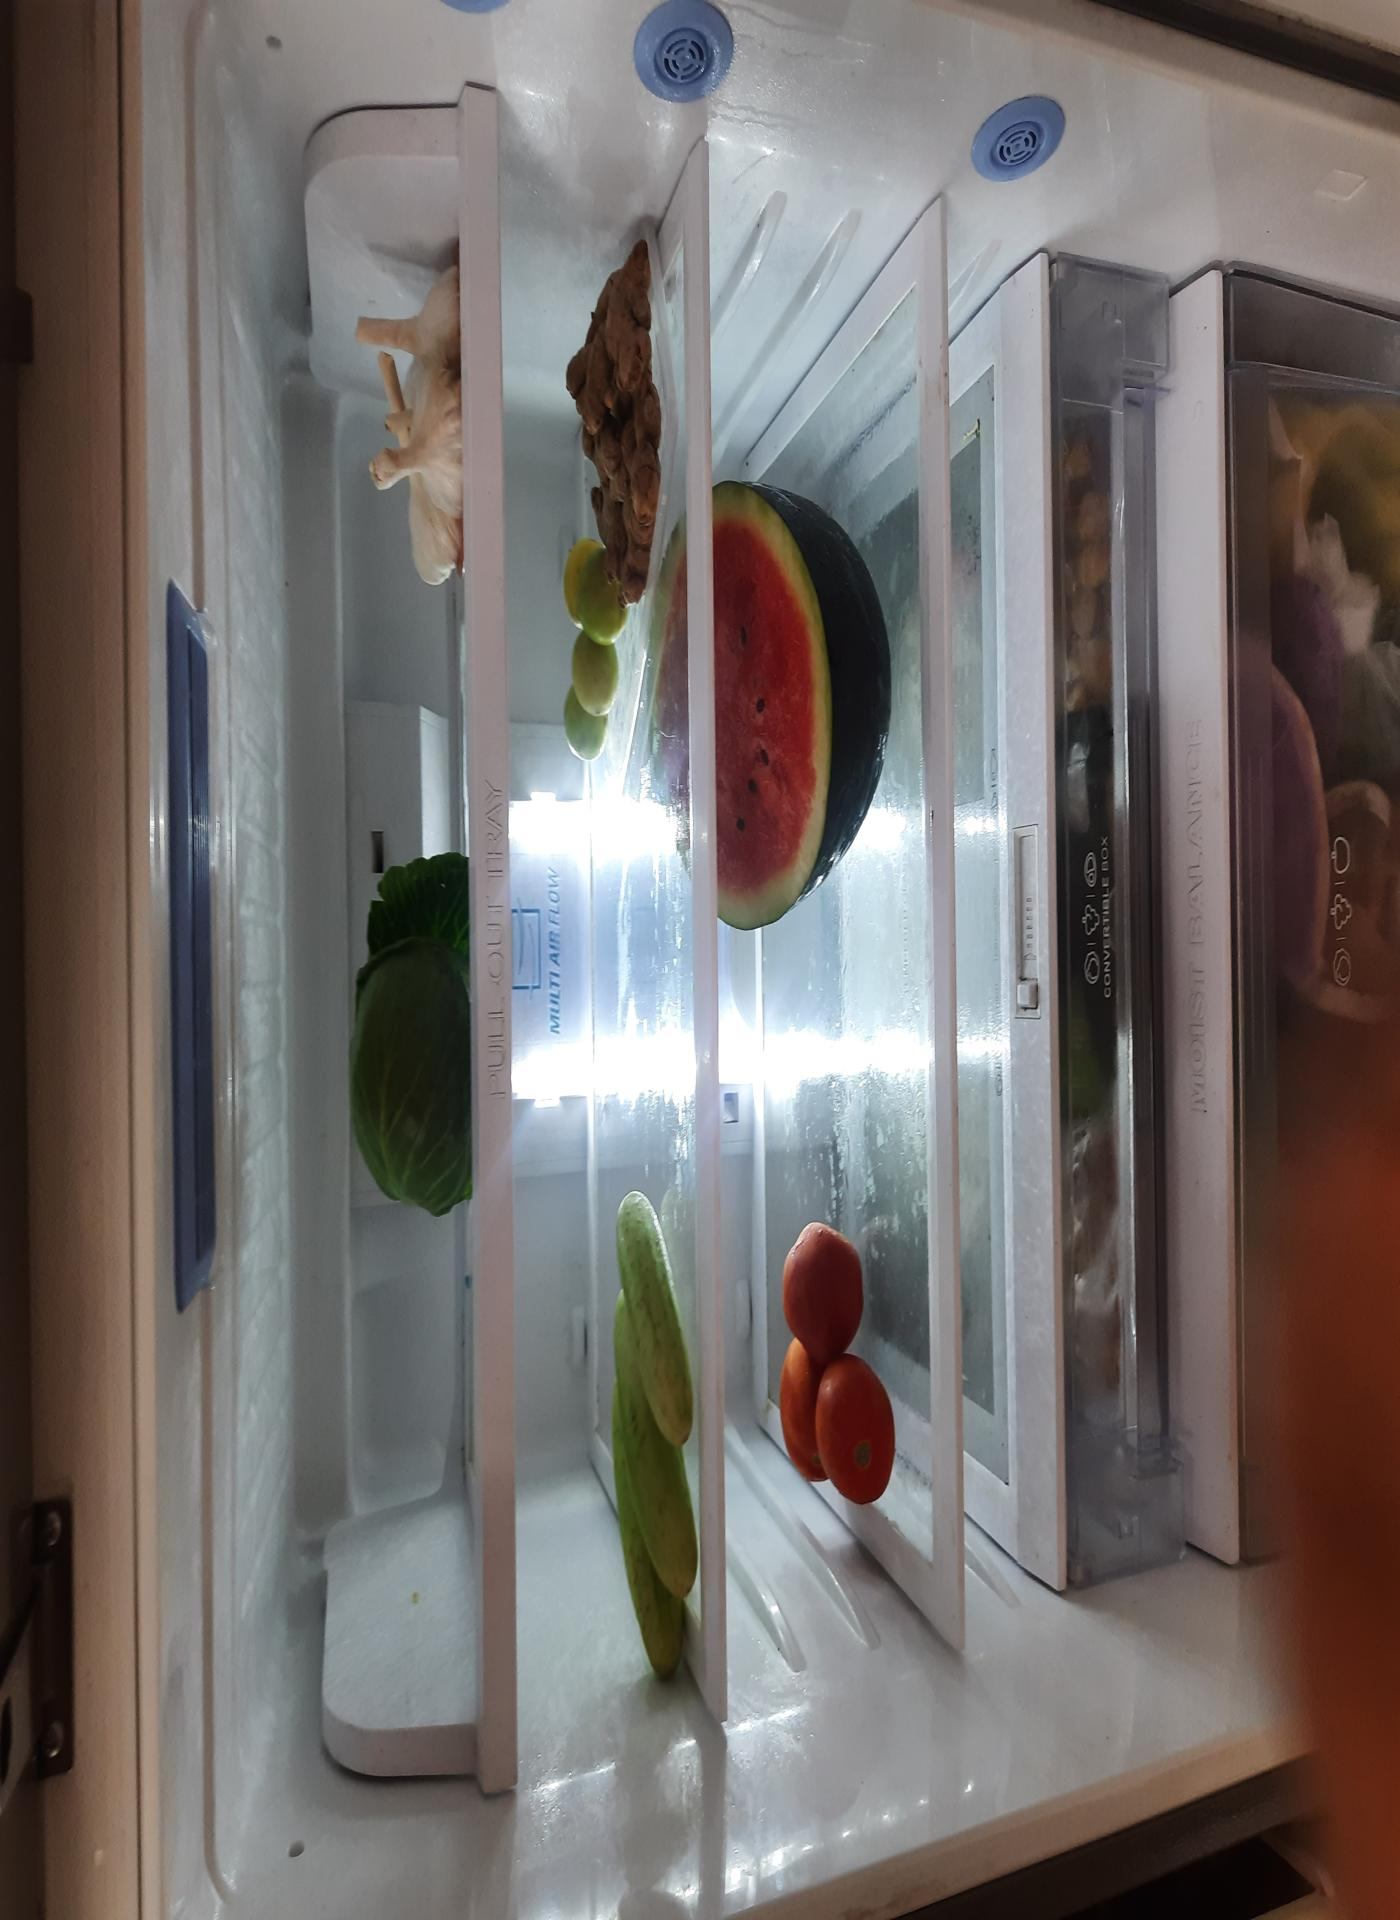cabbage: (383, 634, 590, 859)
cucumber: (131, 1099, 400, 1263)
garlic: (728, 634, 905, 845)
ginger: (719, 1030, 920, 1216)
lemon: (634, 1021, 754, 1143)
tomato: (233, 1409, 389, 1632)
watermelon: (544, 1303, 793, 1634)
